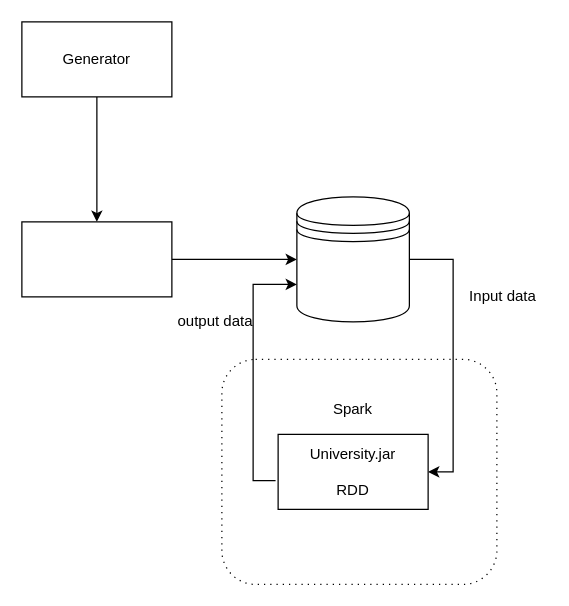
This 569x606 diagram has some shape labels left out. The shapes that lost their labels are listed below. From the top down, each one's centre as x and y in pixels, then its label:
At (x=96, y=259): "CSV".
At (x=352, y=259): "Cassandra".
